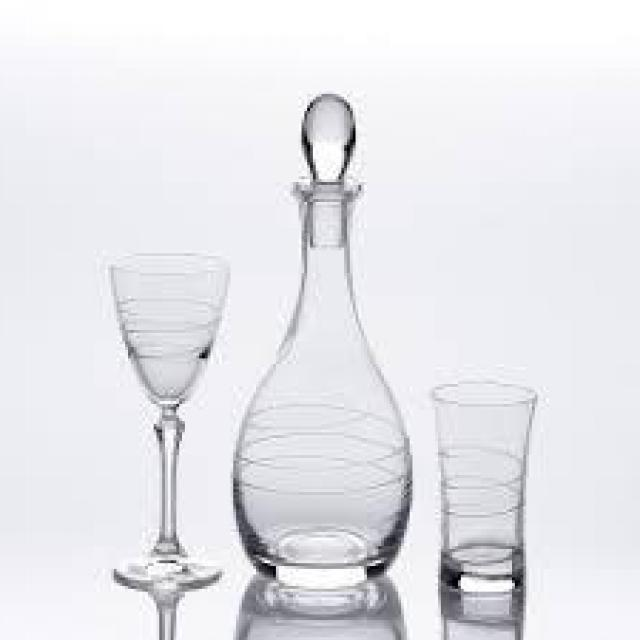glass: (230, 84, 421, 593), (102, 248, 235, 594), (426, 375, 546, 603)
